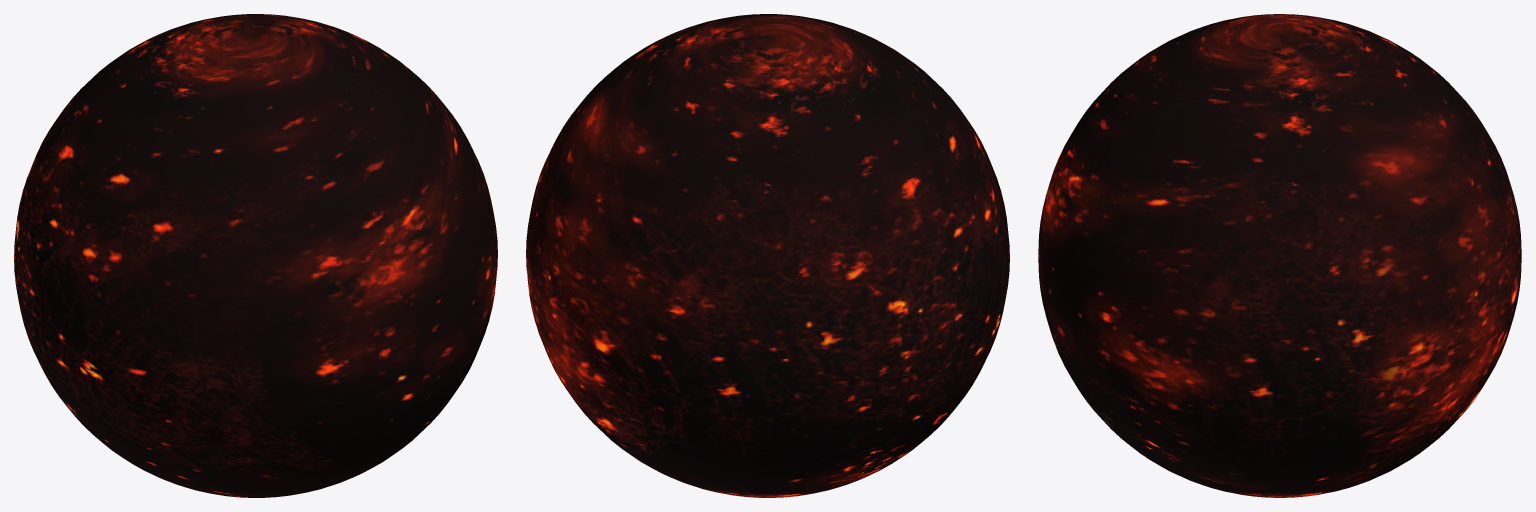
Rendered from lava_planet 2.glb.
3 renders of one model, left to right at view 1: azimuth 30°, elevation 25°; view 2: azimuth 150°, elevation 25°; view 3: azimuth 270°, elevation 25°, orthographic.
Visible parts, largest first — view 1: g; view 2: g; view 3: g.
Boxes of the visible parts, x1,y1,x2,y2 form: g: [14, 14, 497, 497]; g: [526, 14, 1009, 497]; g: [1038, 14, 1521, 497].
Size of the model in its own units: 2 by 2 by 2.
1 material, 1 textured.
